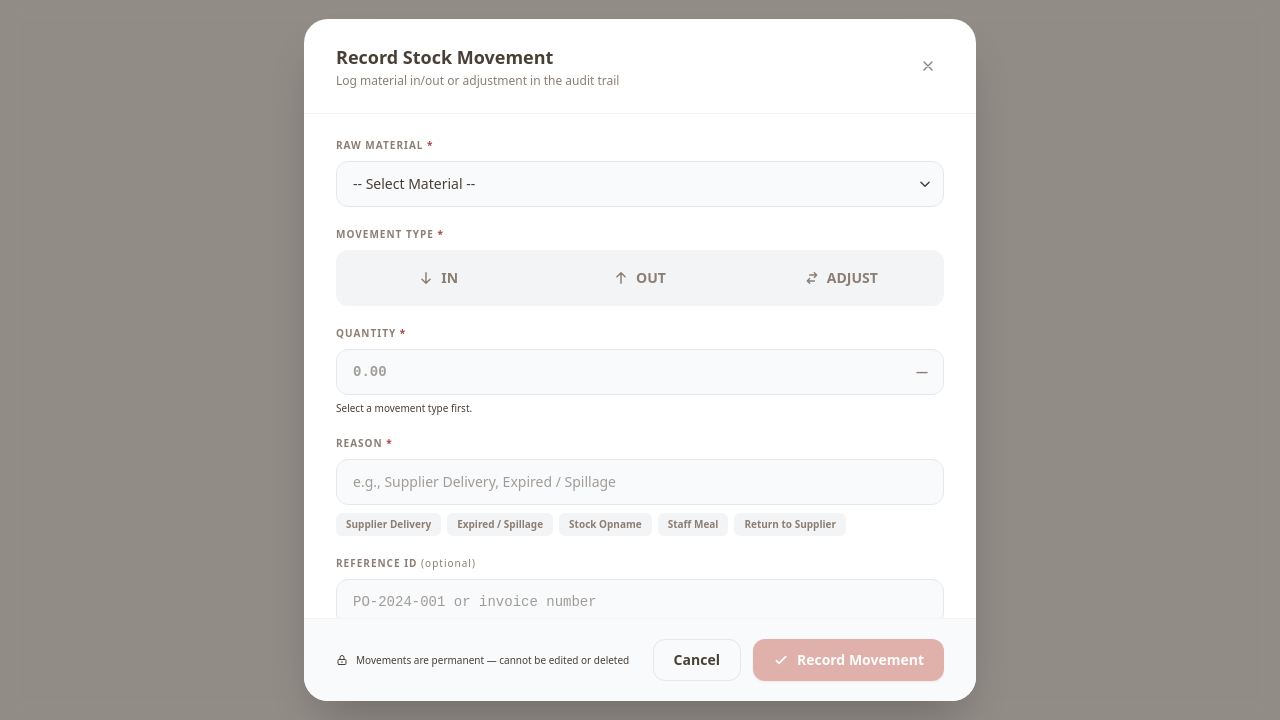
Test: MovementFormModal.vue (Component Testing) › Quantity Hint › [Happy Path] hint untuk IN
What coordinates should you click on to do the following:
click the button "IN"
I would click on:
 (439, 278)
Its box is [342, 256, 535, 300].
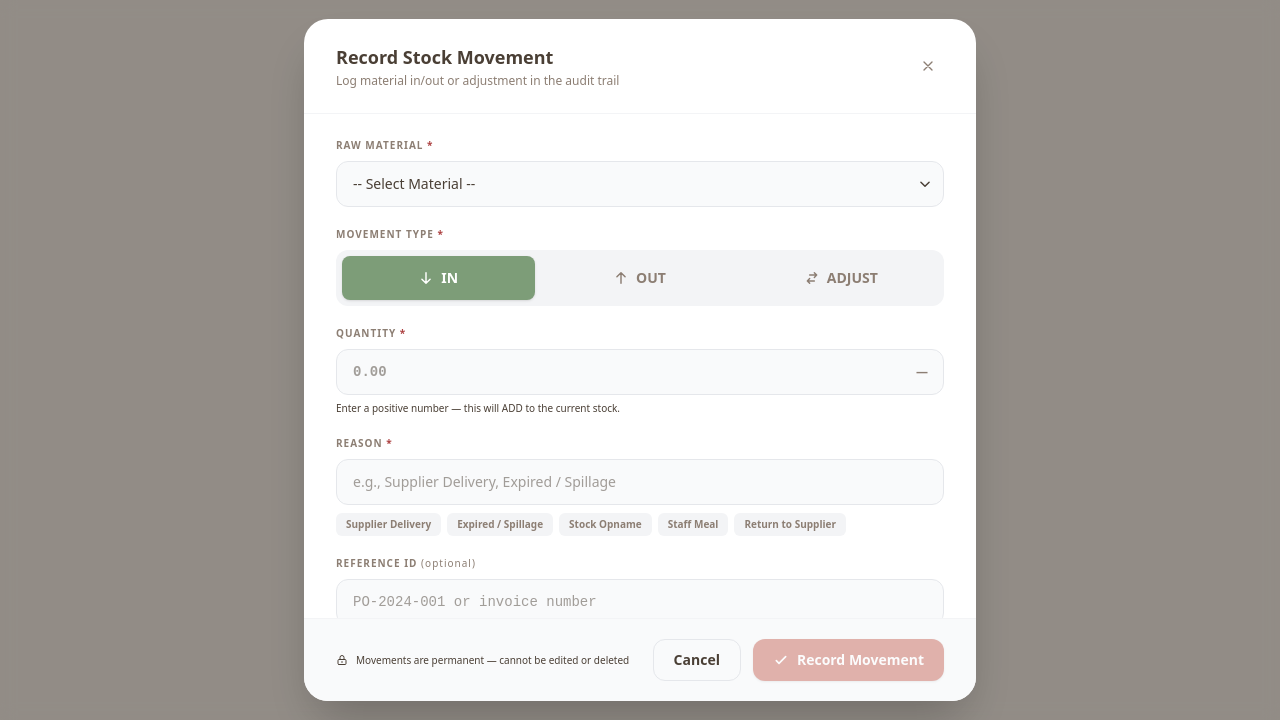
Expected: the text "Enter a positive number — this will ADD to the current stock." is shown, [336, 401, 620, 415]
